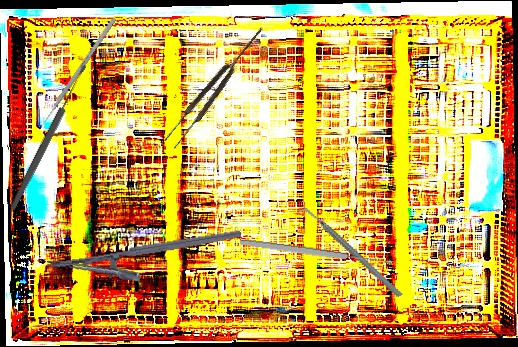Chopper: (296, 184, 404, 321)
Needle Holder: (46, 228, 246, 296)
Pusher: (35, 16, 117, 135)
Surgical Spoon: (7, 63, 90, 212), (239, 237, 393, 268)
Tissue Forceps: (162, 22, 270, 151)
